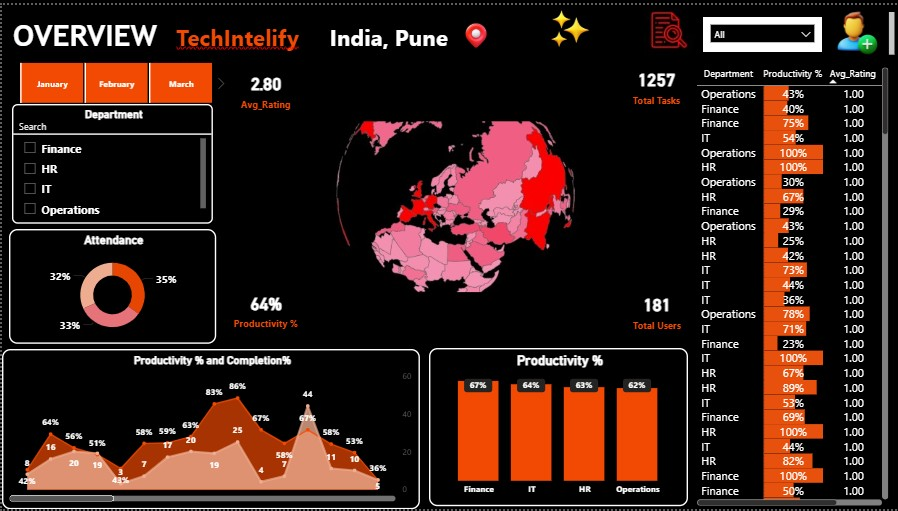

Layout of this report page (visuals, bound fields, positions):
{"tool":"powerbi","page":{"name":"Page 1","canvas":[1280,720],"ordinal":0},"visuals":[{"type":"textbox","box":[10,0,1270,75.7],"z":0},{"type":"card","fields":{"Values":["New_Measuere.Total Users"]},"box":[870,390,131.4,92.9],"z":1000},{"type":"card","fields":{"Values":["New_Measuere.Total Tasks"]},"box":[877.1,75.7,115.7,78.6],"z":2000},{"type":"card","fields":{"Values":["New_Measuere.Productivity %"]},"box":[312.9,385.7,128.6,97.1],"z":3000},{"type":"card","fields":{"Values":["New_Measuere.Avg_Rating"]},"box":[312.9,75.7,128.6,90],"z":4000},{"type":"slicer","title":"Department","fields":{"Values":["Employee_Data.Department"]},"box":[14.3,141.4,287.1,171.4],"z":5000},{"type":"lineChart","title":"Productivity % and Completion% ","fields":{"Category":["Employee_Data.Date.Variation.Date Hierarchy.Month","Employee_Data.Date.Variation.Date Hierarchy.Day"],"Y":["New_Measuere.Productivity %"],"Y2":["New_Measuere.Task_completion%"]},"box":[0,491.4,597.1,228.6],"z":6000},{"type":"columnChart","title":"Productivity % ","fields":{"Category":["Employee_Data.Department"],"Y":["New_Measuere.Productivity %"]},"box":[610,490,370,225.7],"z":7000},{"type":"donutChart","title":"Attendance","fields":{"Category":["Employee_Data.Attendance_Status"],"Y":["CountNonNull(Employee_Data.Employee_ID)"]},"box":[10,320,295.7,164.3],"z":8000},{"type":"tableEx","fields":{"Values":["Min(Employee_Data.Department)","New_Measuere.Productivity %","New_Measuere.Avg_Rating","Employee_Data.Employee_ID"]},"box":[987.1,84.3,284.3,635.7],"z":9000},{"type":"slicer","fields":{"Values":["Employee_Data.Date.Variation.Date Hierarchy.Month"]},"box":[0,75.7,324.3,71.4],"z":9001},{"type":"image","box":[391.4,67.1,521.4,442.9],"z":9002},{"type":"image","box":[652.9,17.1,48.6,50],"z":9003},{"type":"image","box":[1171.4,0,100,75.7],"z":9004},{"type":"slicer","fields":{"Values":["Employee_Data.Employee_Name"]},"box":[1001.4,17.1,170,50],"z":9005},{"type":"image","box":[904.3,0,97.1,75.7],"z":9006},{"type":"image","box":[732.9,0,158.6,67.1],"z":9007}]}

Visuals, with their boxes in screenshot pixels (x1, y1, x2, y2), scaled from the page's 1280x720 canvas onto the 898x511 screenshot:
textbox: [left=7, top=0, right=897, bottom=54]
card - New_Measuere.Total Users: [left=610, top=277, right=703, bottom=343]
card - New_Measuere.Total Tasks: [left=615, top=54, right=697, bottom=110]
card - New_Measuere.Productivity %: [left=220, top=274, right=310, bottom=343]
card - New_Measuere.Avg_Rating: [left=220, top=54, right=310, bottom=118]
"Department" slicer: [left=10, top=100, right=211, bottom=222]
"Productivity % and Completion% " lineChart: [left=0, top=349, right=419, bottom=510]
"Productivity % " columnChart: [left=428, top=348, right=688, bottom=508]
"Attendance" donutChart: [left=7, top=227, right=214, bottom=344]
tableEx - Min(Employee_Data.Department) x New_Measuere.Productivity %: [left=693, top=60, right=892, bottom=510]
slicer - Employee_Data.Date.Variation.Date Hierarchy.Month: [left=0, top=54, right=228, bottom=104]
image: [left=275, top=48, right=640, bottom=362]
image: [left=458, top=12, right=492, bottom=48]
image: [left=822, top=0, right=892, bottom=54]
slicer - Employee_Data.Employee_Name: [left=703, top=12, right=822, bottom=48]
image: [left=634, top=0, right=703, bottom=54]
image: [left=514, top=0, right=625, bottom=48]
